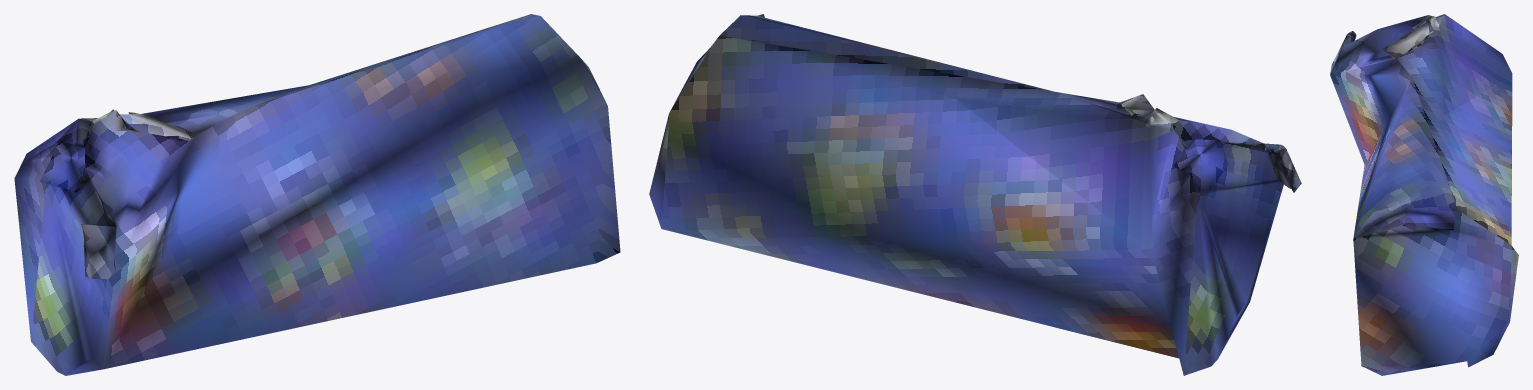
File: Olive_Kids_Robots_Pencil_Case-low.glb
3 views of the same model, side by side, from view 1: azimuth 30°, elevation 25°; view 2: azimuth 150°, elevation 25°; view 3: azimuth 270°, elevation 25° (orthographic). The views are drawn at different scales.
Visible parts, largest first — view 1: Olive_Kids_Robots_Pencil_Case; view 2: Olive_Kids_Robots_Pencil_Case; view 3: Olive_Kids_Robots_Pencil_Case.
Part boxes in pixels (box(x1,y1,x2,y2)): Olive_Kids_Robots_Pencil_Case: box(14, 14, 620, 375); Olive_Kids_Robots_Pencil_Case: box(649, 14, 1301, 375); Olive_Kids_Robots_Pencil_Case: box(1330, 14, 1518, 375).
Bounding box in the file's own units: 0.2127 × 0.0915 × 0.0808.
Materials: 1 (1 with a texture image).
